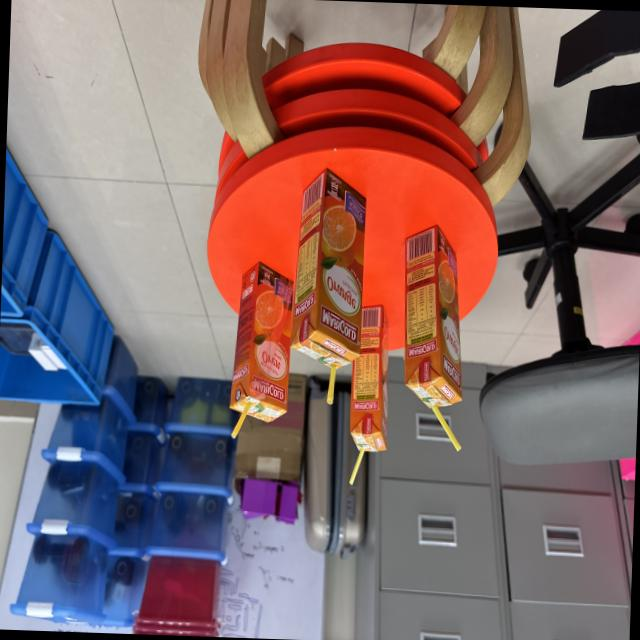drink_carton: (283, 161, 373, 410), (392, 211, 472, 467), (222, 252, 304, 449), (342, 298, 399, 492)
